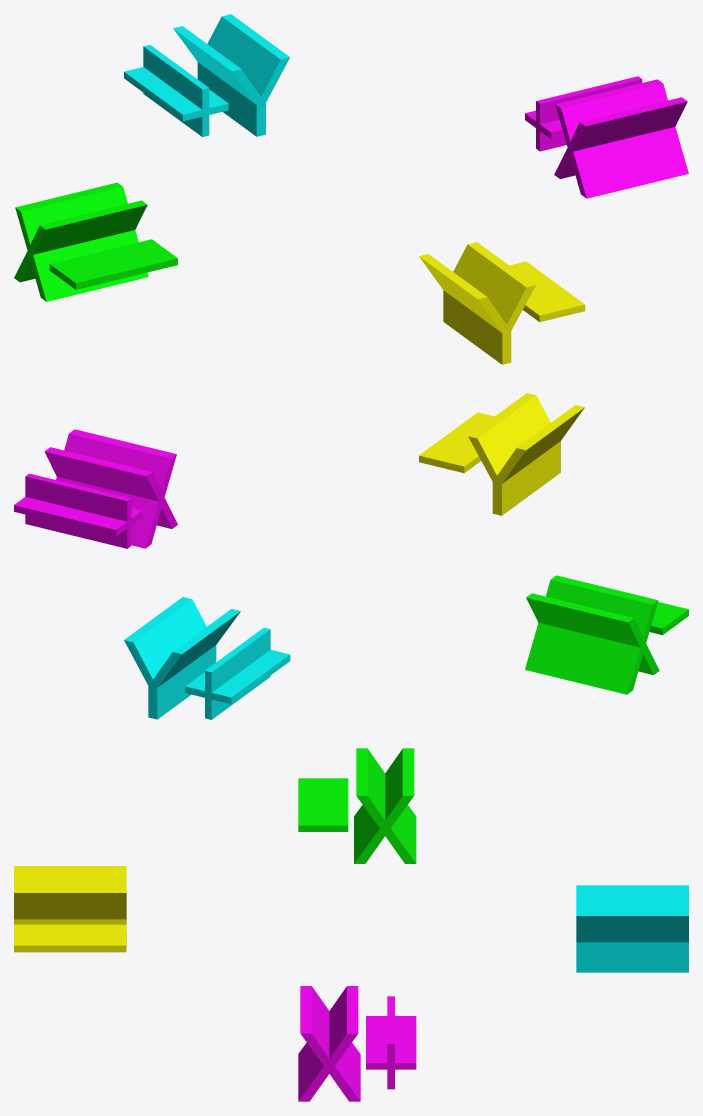
Rendered from TEST_xy2000mm_z-1500mm_ver2023.glb.
3 renders of one model, top to bottom at view 1: azimuth 30°, elevation 25°; view 2: azimuth 150°, elevation 25°; view 3: azimuth 270°, elevation 25°, orthographic. The views are drawn at different scales.
Visible parts, largest first — view 1: Text001, Text002, Text004, Text003; view 2: Text001, Text002, Text004, Text003; view 3: Text004, Text003, Text001, Text002.
Part boxes in pixels (left/top/right/bottom): Text001: left=525, top=76, right=688, bottom=198; Text002: left=14, top=182, right=177, bottom=301; Text004: left=124, top=14, right=289, bottom=136; Text003: left=419, top=242, right=585, bottom=364; Text001: left=14, top=429, right=177, bottom=548; Text002: left=525, top=575, right=688, bottom=694; Text004: left=124, top=597, right=290, bottom=719; Text003: left=419, top=393, right=584, bottom=515; Text004: left=576, top=885, right=688, bottom=972; Text003: left=14, top=866, right=126, bottom=952; Text001: left=298, top=986, right=416, bottom=1101; Text002: left=298, top=748, right=416, bottom=863.
Size of the model in its own units: 6 by 0.668 by 6.
